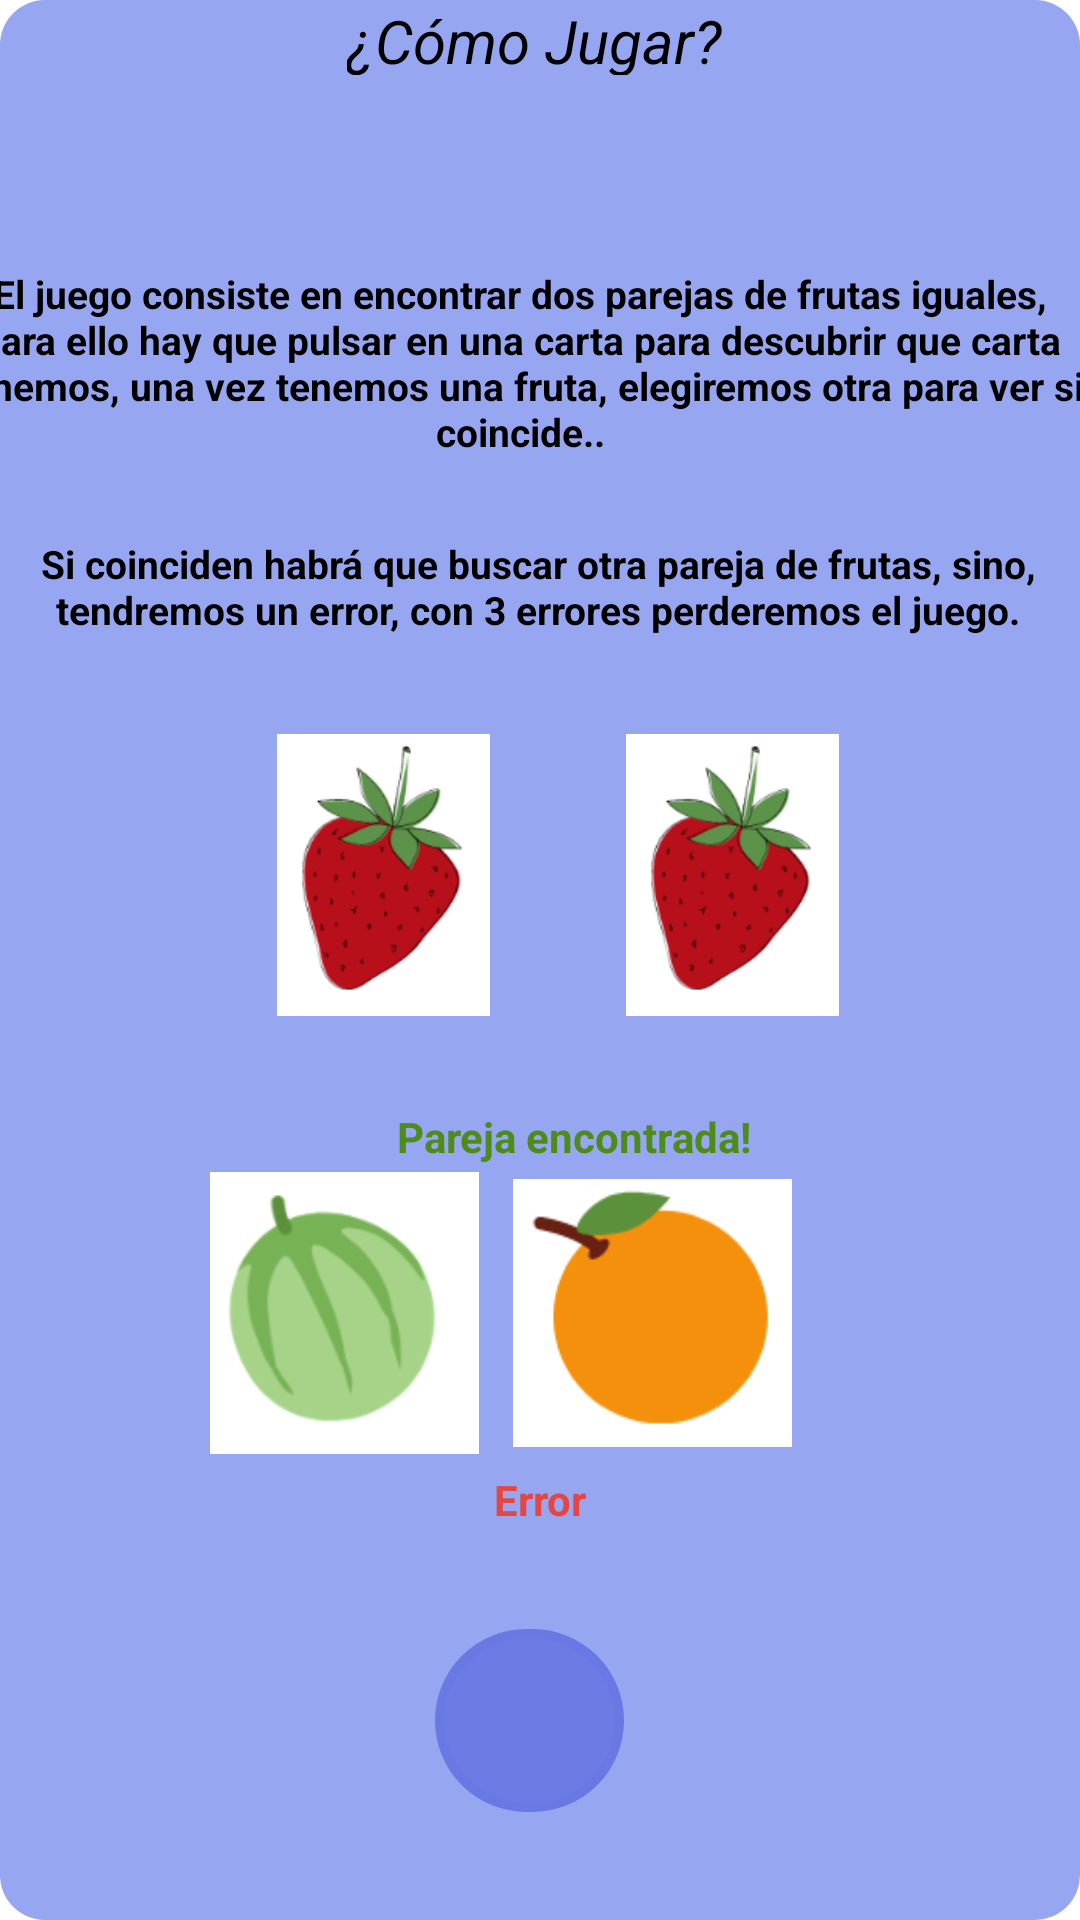

Locate icon controls on the screen. Image size 1080px x 1920px, boxes as (x1,y1,x2,y2).
parejas fresa: (277,734,490,1016), (626,734,839,1016)
parejas melon: (210,1172,479,1454)
parejas naranjas: (513,1179,792,1447)
